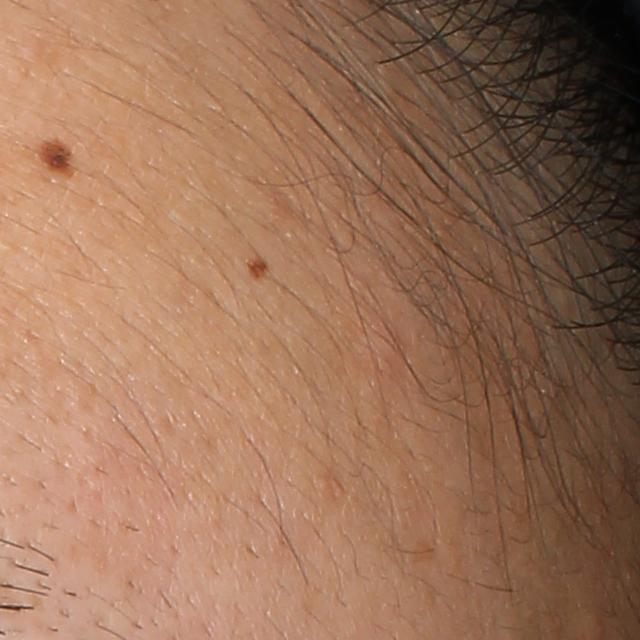nevus: (33, 135, 79, 176), (239, 256, 271, 278)
